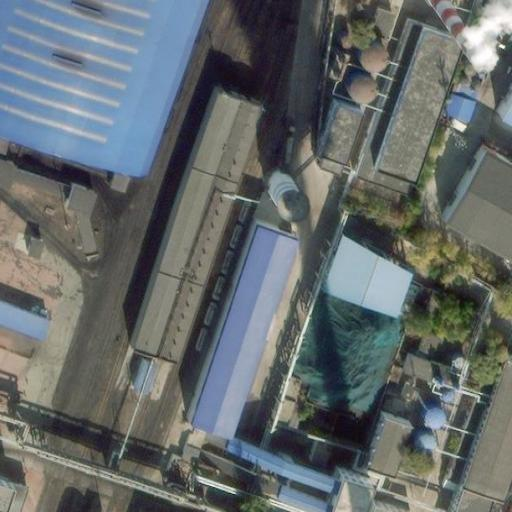building: (123, 91, 259, 366), (184, 222, 295, 434), (370, 19, 455, 174), (347, 13, 418, 190), (0, 157, 94, 255), (455, 353, 512, 498), (439, 147, 512, 259), (316, 233, 406, 313), (307, 99, 353, 171), (359, 411, 402, 471), (440, 88, 480, 129), (323, 478, 369, 512), (0, 297, 39, 335), (395, 352, 441, 382), (122, 353, 153, 390), (446, 485, 487, 512), (494, 79, 512, 126), (341, 69, 368, 96), (350, 37, 376, 63)
